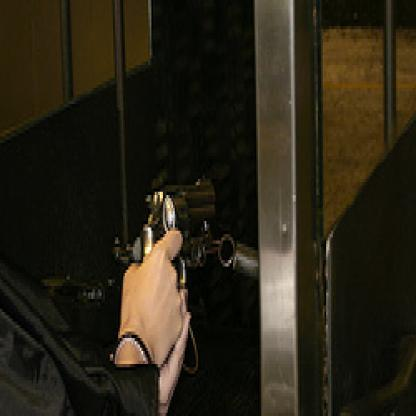gun: (128, 166, 228, 348)
